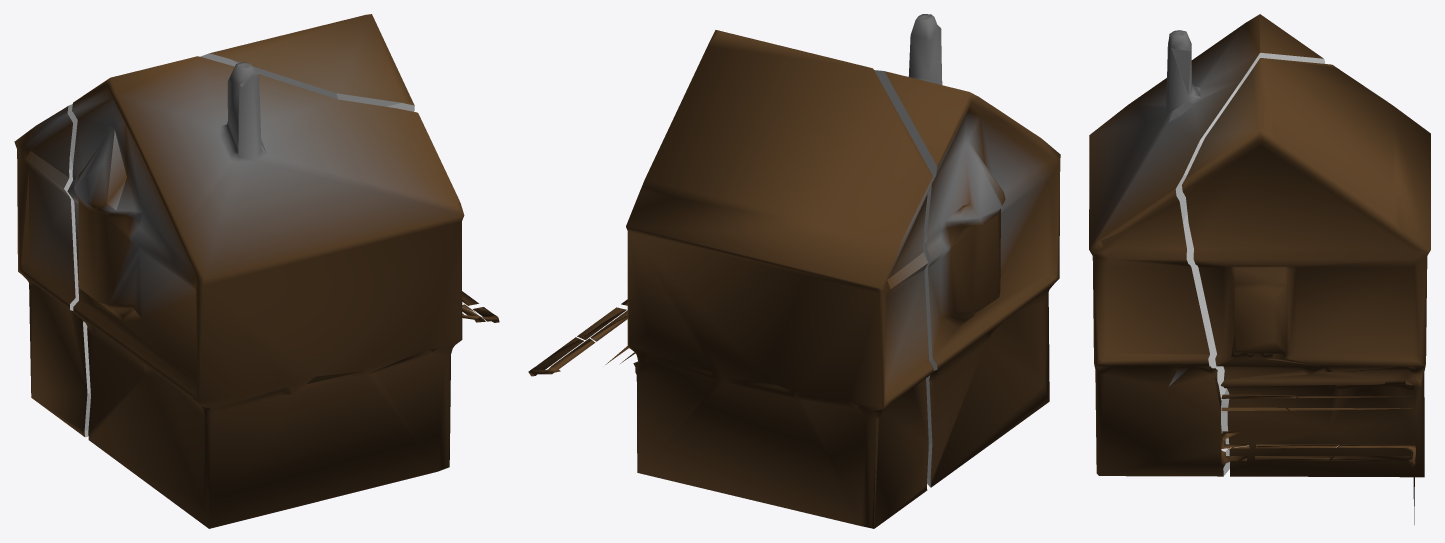
Rendered from Medieval Houses(1).glb.
The picture shows the model from 3 angles, left to right: view 1: azimuth 30°, elevation 25°; view 2: azimuth 150°, elevation 25°; view 3: azimuth 270°, elevation 25°; orthographic projection. The views are drawn at different scales.
Parts seen in each view (by area): view 1: Root.003, Root.012; view 2: Root.012, Root.003, Root.001; view 3: Root.012, Root.003, Root.001.
Part boxes in pixels (x1,y1,x2,y2): Root.003: (67,56,464,528); Root.012: (14,14,414,437); Root.012: (626,30,933,528); Root.003: (874,14,1060,487); Root.001: (528,337,595,376); Root.012: (1182,58,1430,477); Root.003: (1089,14,1325,476); Root.001: (1331,442,1416,524).
Size of the model in its own units: 10.31 by 10.17 by 8.45.
